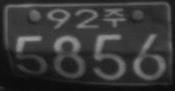2: (74, 7, 100, 29)
5: (93, 34, 126, 81), (15, 35, 47, 75)
6: (132, 33, 167, 80)
8: (52, 33, 86, 79)
9: (46, 7, 70, 29)
주: (102, 7, 126, 27)
